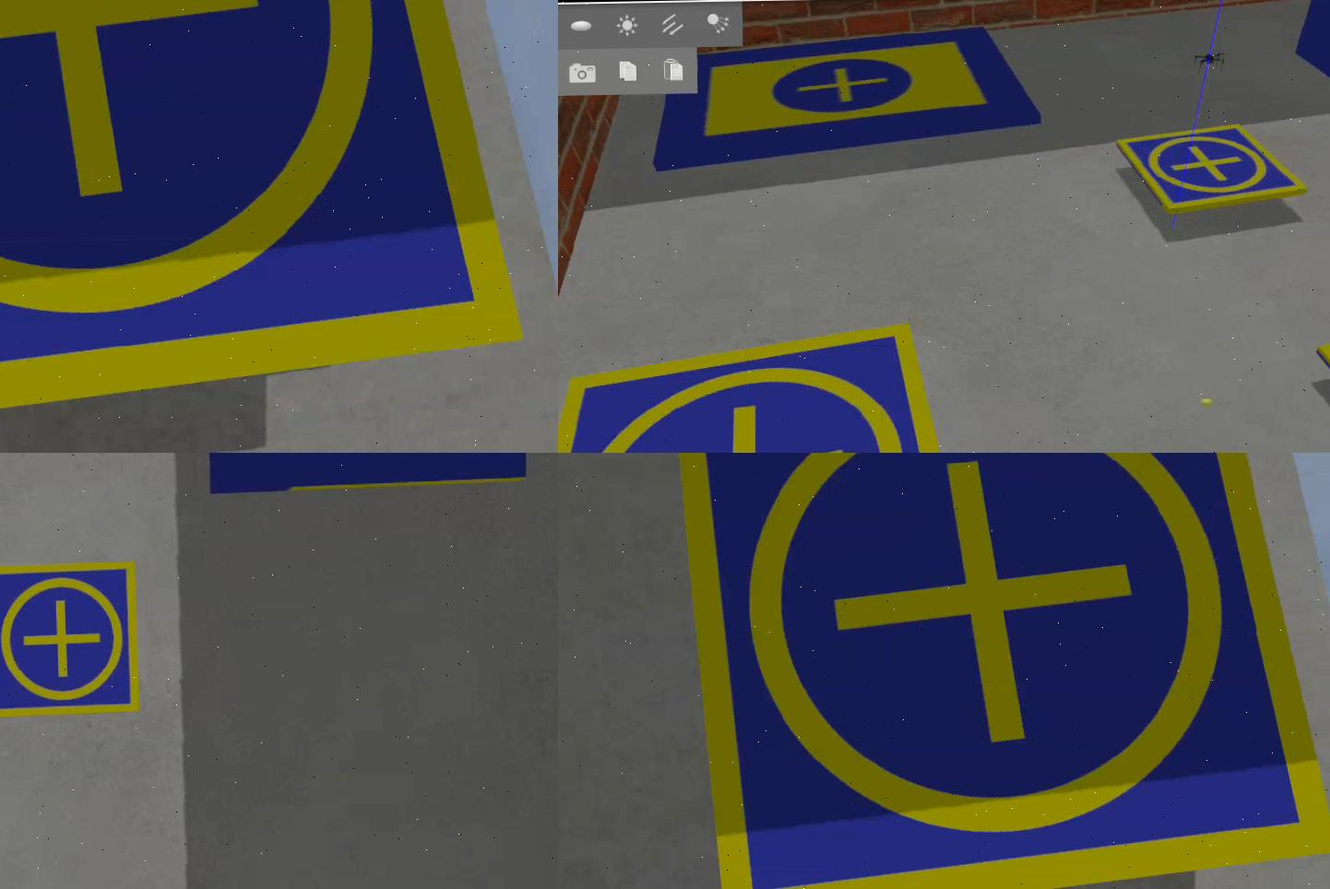large_base: (650, 26, 1045, 177)
small_base: (669, 454, 1330, 889), (1, 1, 525, 443), (559, 324, 982, 454), (1, 560, 144, 717), (1117, 128, 1310, 221)
